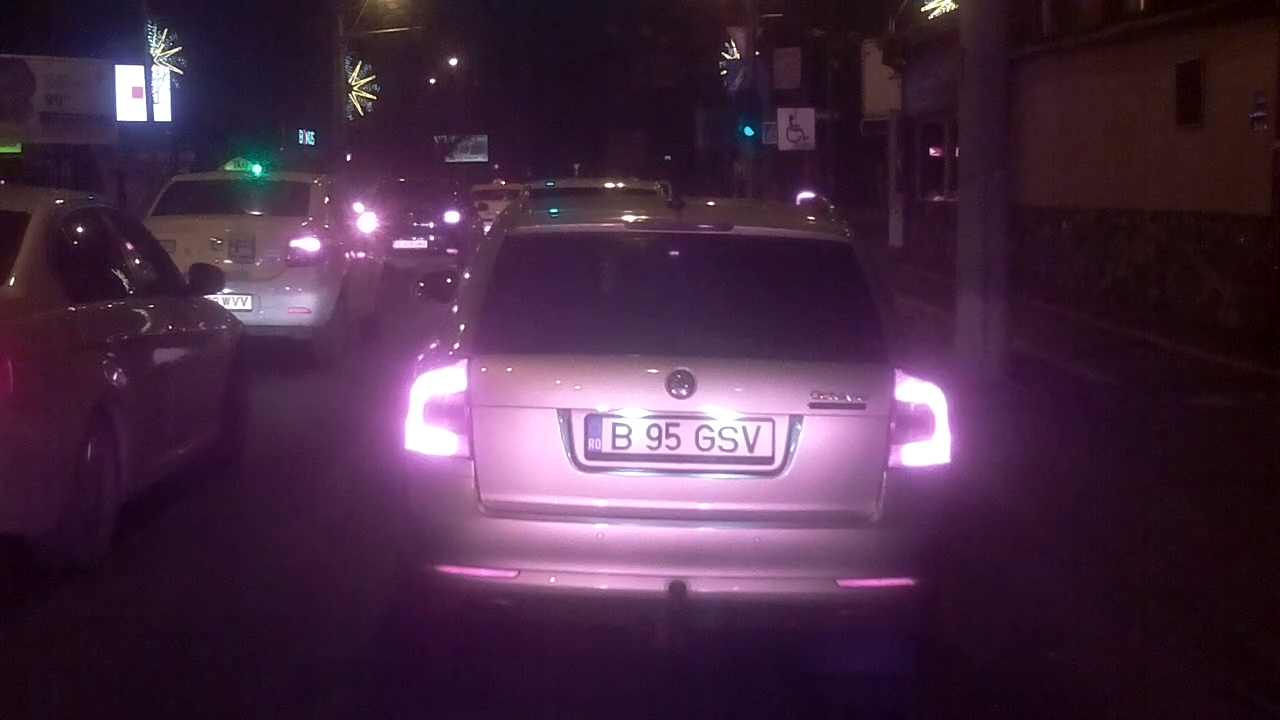license-plate: (579, 407, 778, 466)
